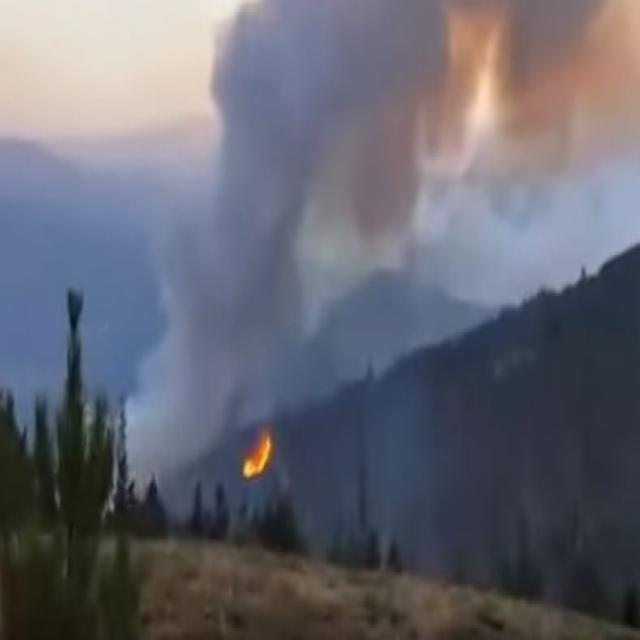Fire: (236, 415, 280, 485)
Smoke: (107, 9, 630, 507), (302, 347, 442, 579), (112, 340, 174, 498)
